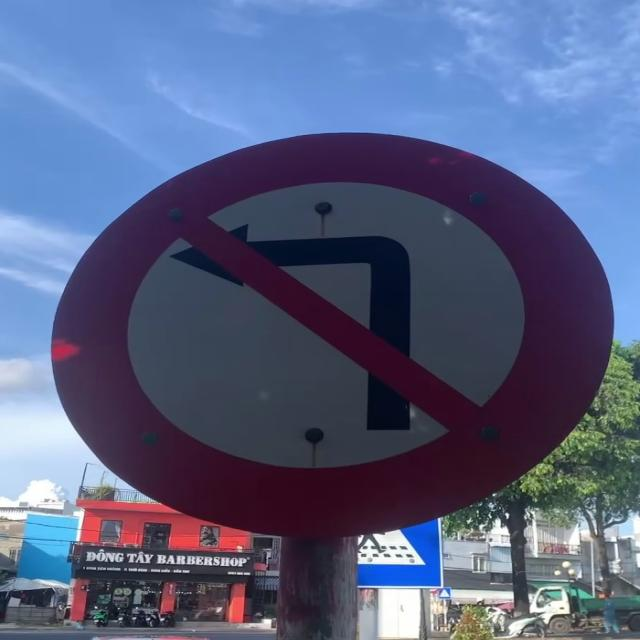Cam_Re_Trai: (52, 128, 609, 551)
